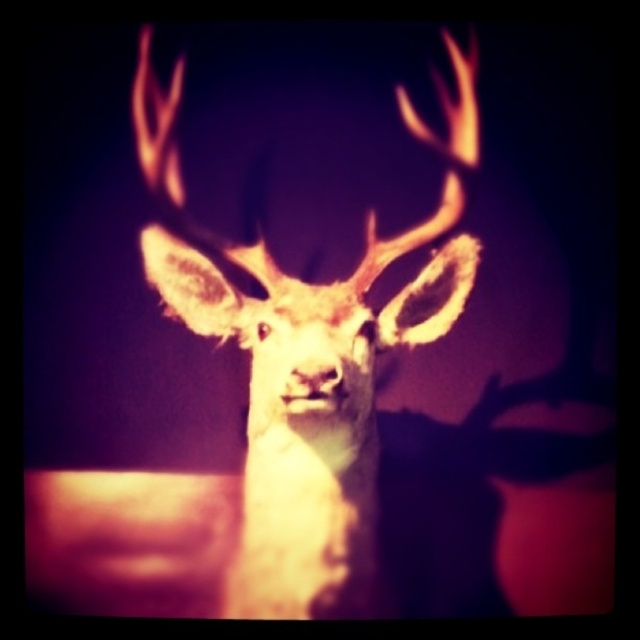Deer: (130, 6, 477, 619)
